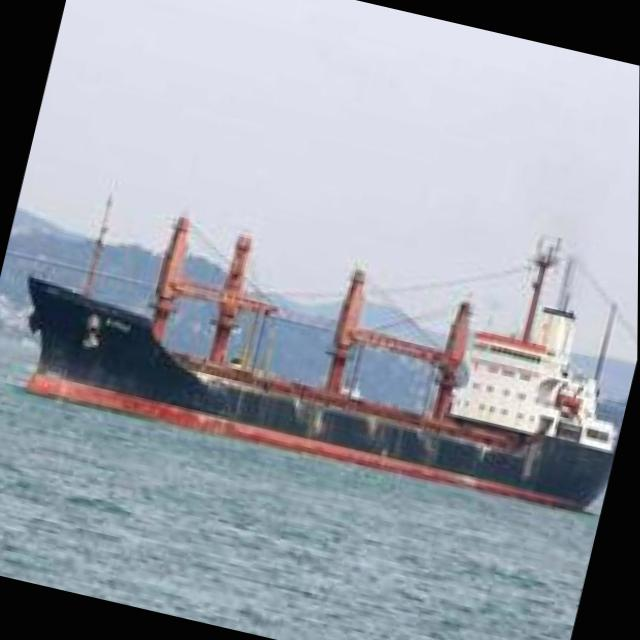ship2: (26, 180, 620, 509)
